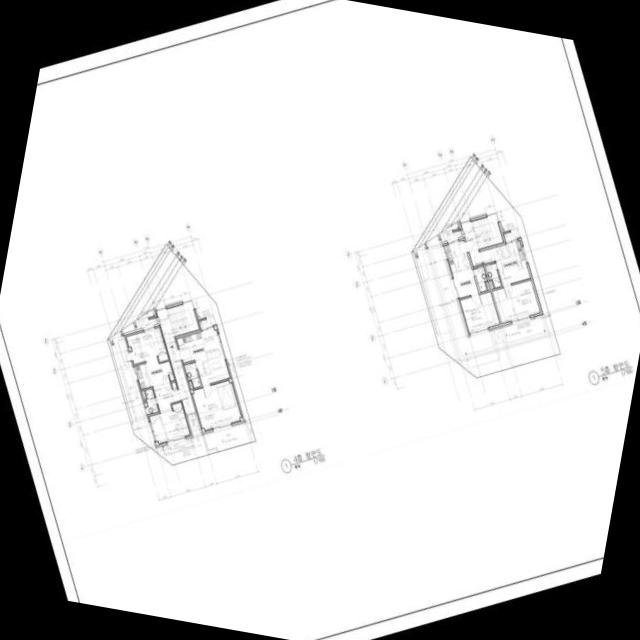background: (0, 0, 640, 640)
space_balconi: (430, 245, 493, 355), (118, 338, 145, 417), (203, 419, 251, 450), (502, 314, 545, 342), (162, 437, 194, 454), (138, 316, 157, 328), (442, 229, 461, 241), (199, 314, 215, 328), (503, 227, 519, 241)
space_bedroom: (192, 380, 240, 429), (492, 279, 540, 322), (459, 290, 499, 332), (149, 401, 189, 442)
space_front: (480, 247, 495, 263), (179, 345, 191, 362), (171, 381, 180, 401), (457, 239, 466, 253)
space_kitchen: (498, 239, 527, 268), (444, 241, 471, 272), (176, 330, 205, 348), (134, 362, 152, 388)
space_living_room: (126, 326, 173, 412), (188, 327, 229, 384), (492, 245, 530, 284), (452, 267, 478, 297)
space_other: (164, 335, 195, 413), (468, 248, 482, 265), (141, 390, 145, 401), (188, 380, 192, 388), (485, 281, 489, 289), (489, 280, 493, 288)
space_staircase: (460, 213, 503, 251), (156, 301, 198, 338)
space_toilet: (484, 262, 501, 287), (184, 361, 200, 387), (473, 265, 487, 291), (145, 388, 158, 413)
